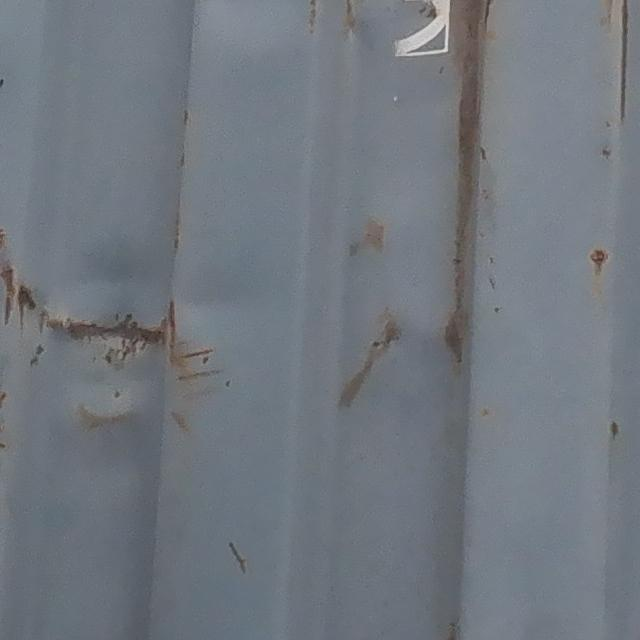Rust: (0, 261, 189, 425)
